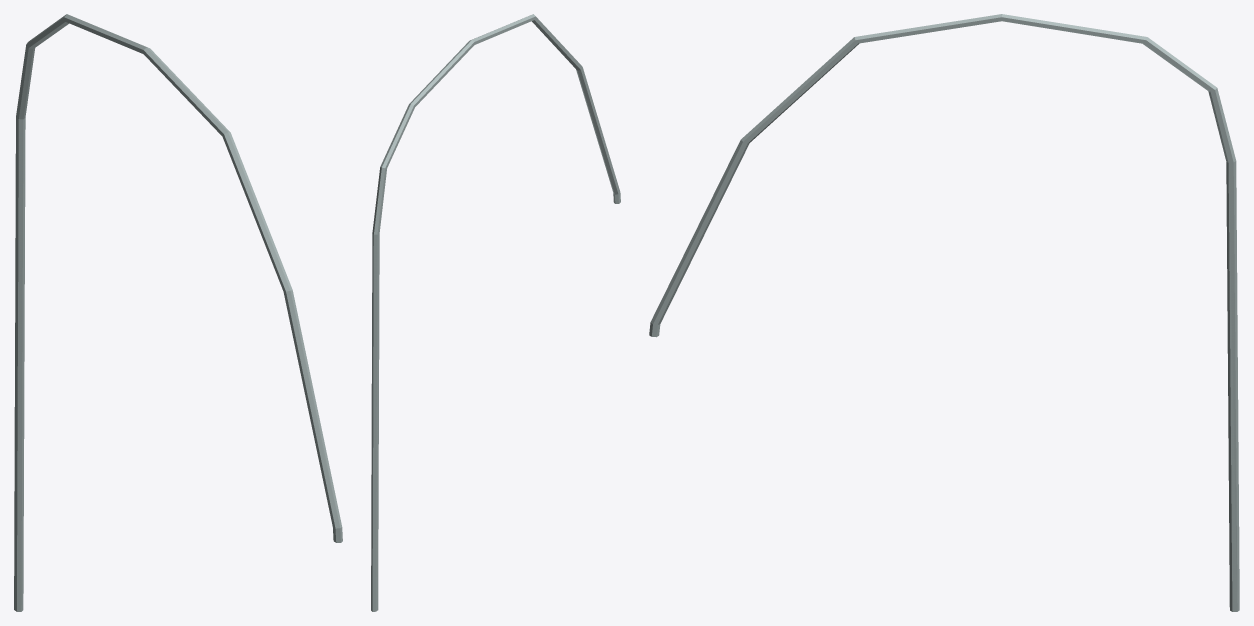
The model's file is xt117-geode.glb.
The picture shows the model from 3 angles, left to right: view 1: azimuth 30°, elevation 25°; view 2: azimuth 150°, elevation 25°; view 3: azimuth 270°, elevation 25°; orthographic projection. The views are drawn at different scales.
Parts seen in each view (by area): view 1: Node; view 2: Node; view 3: Node.
Part boxes in pixels (x1,y1,x2,y2): Node: (14, 14, 342, 611); Node: (371, 14, 620, 611); Node: (649, 14, 1239, 611).
Size of the model in its own units: 0.00534 by 0.4967 by 0.4458.
Materials: 1 (1 with a texture image).
